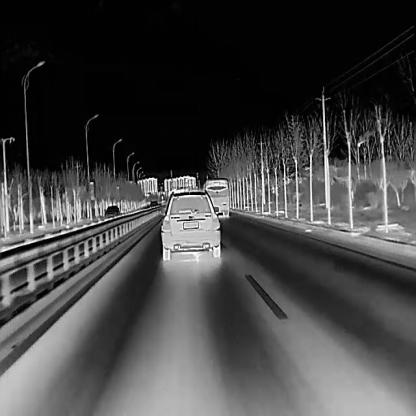bus: (202, 177, 228, 218)
car: (159, 187, 220, 260), (103, 203, 119, 219), (149, 199, 157, 209)
